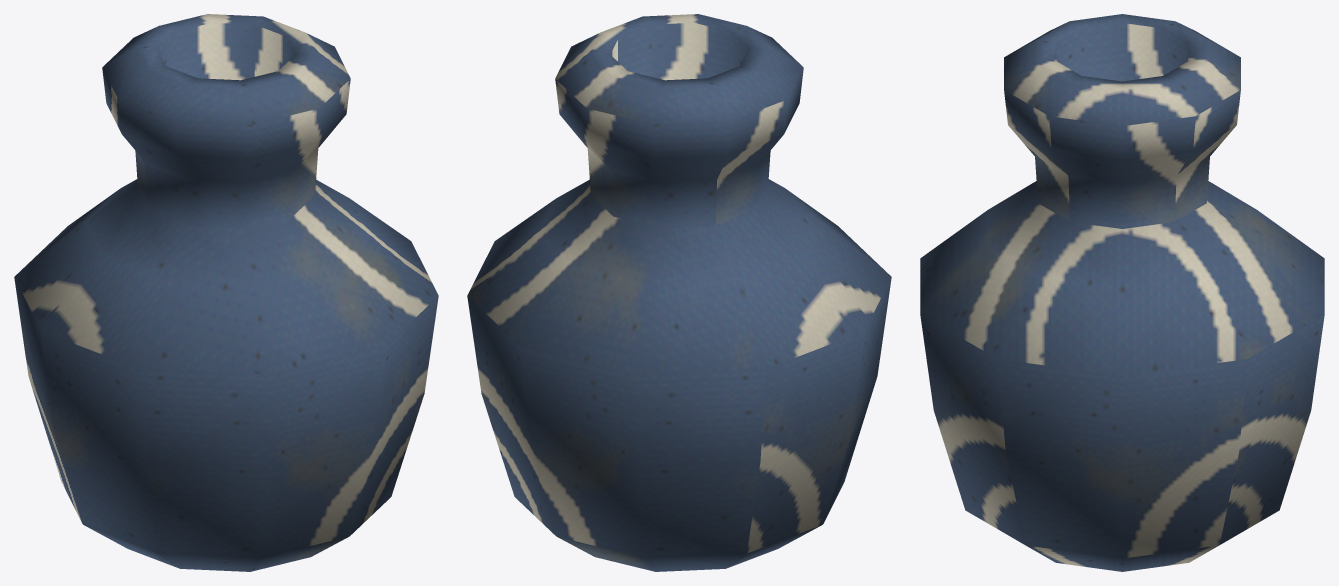
Rendered from Vase.fbx.
3 renders of one model, left to right at view 1: azimuth 30°, elevation 25°; view 2: azimuth 150°, elevation 25°; view 3: azimuth 270°, elevation 25°, orthographic.
Visible parts, largest first — view 1: Vase; view 2: Vase; view 3: Vase.
Boxes of the visible parts, <box> form: Vase: <box>14,14,438,571</box>; Vase: <box>467,14,891,571</box>; Vase: <box>920,14,1324,571</box>.
Bounding box in the file's own units: 0.3597 × 0.4403 × 0.3421.
1 material, 1 textured.
